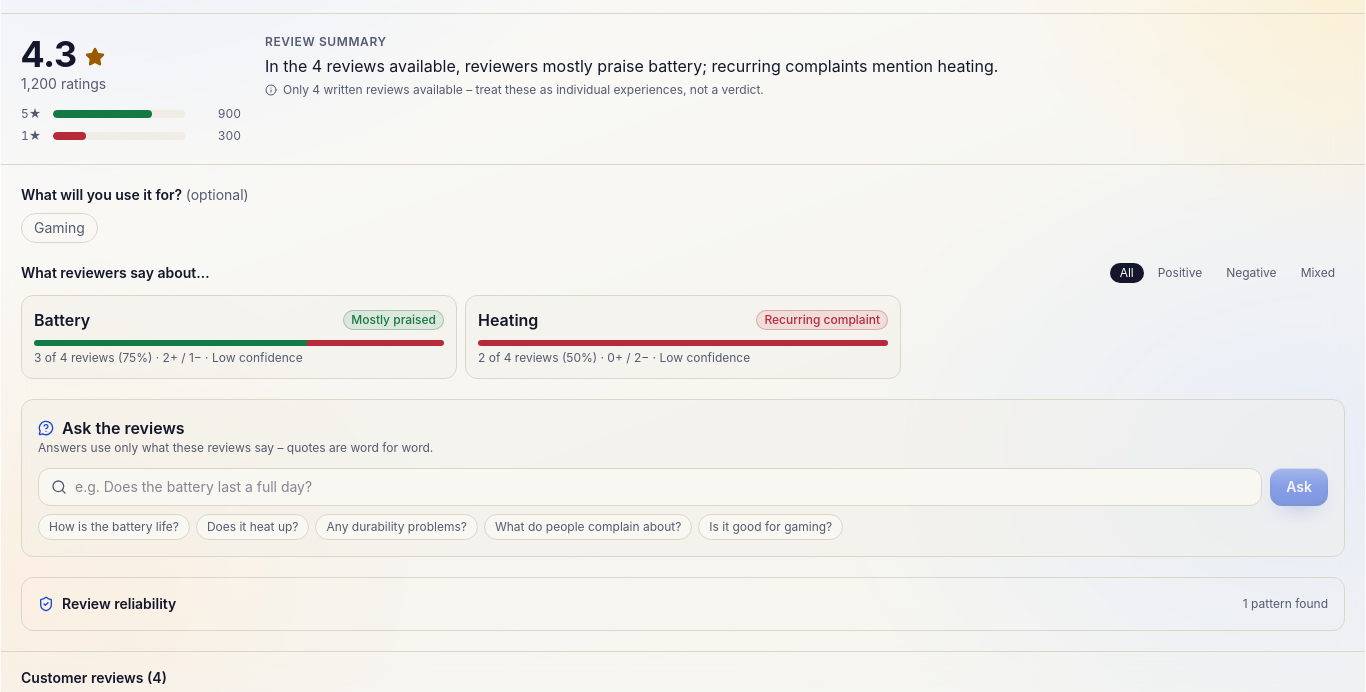
Scenario: ReviewsSection › asks the reviews and shows grounded excerpts
Type "Does it heat up?" into the field named "Question about this product's reviews".
click(662, 487); type("Does it heat up?")  # box left=75, top=469, right=1249, bottom=505
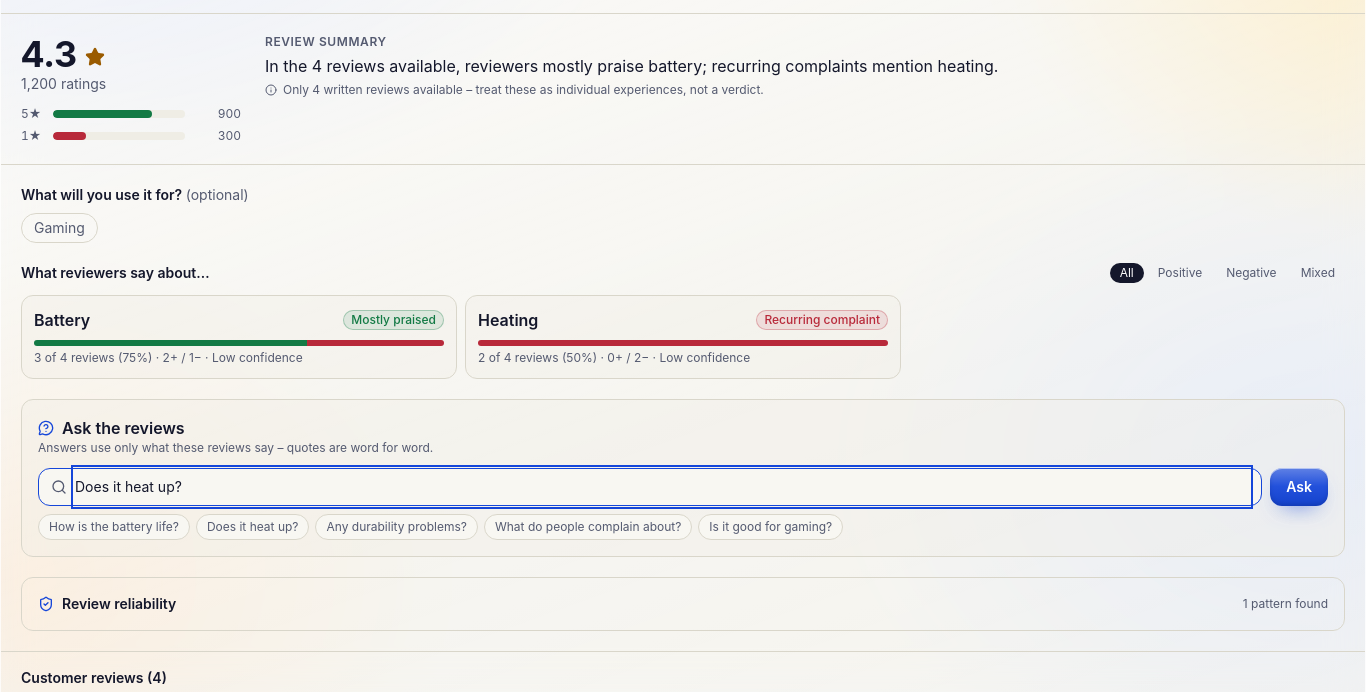
Click the button "Ask".
click(1299, 487)  # box left=1270, top=468, right=1328, bottom=506
(page scrolled)
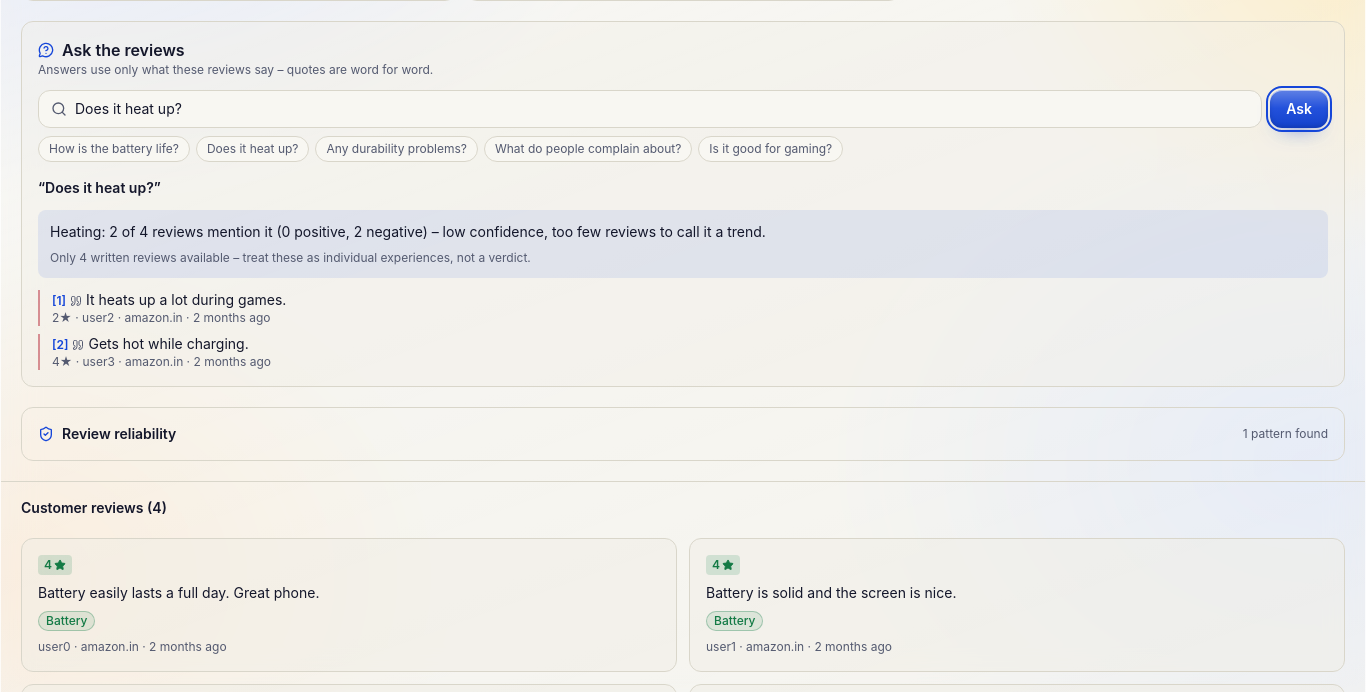
Expected: the element with test id "review-answer" shows "Heating: 2 of 4 reviews mention it (0 positive, 2 negative)", left=50, top=223, right=766, bottom=240
Expected: the list item with test id "answer-excerpt" reads "[1]It heats up a lot during games. 2★ · user2 · amazon.in · 2 months ago", left=86, top=291, right=286, bottom=308
